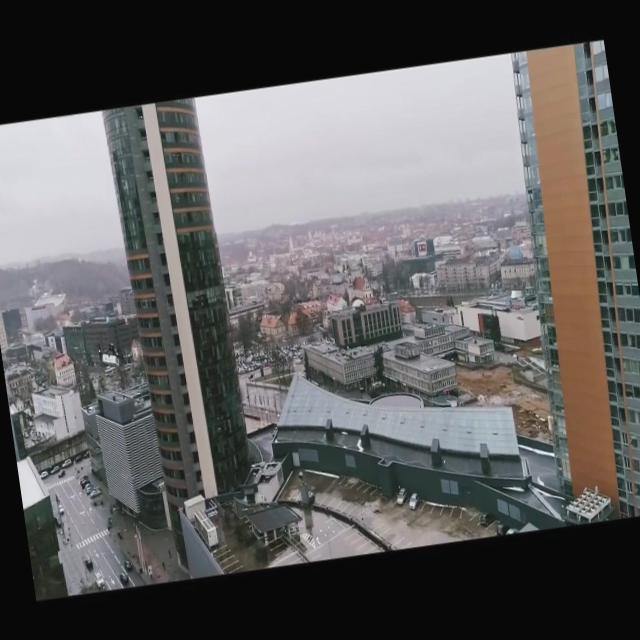drone: (92, 335, 130, 377)
